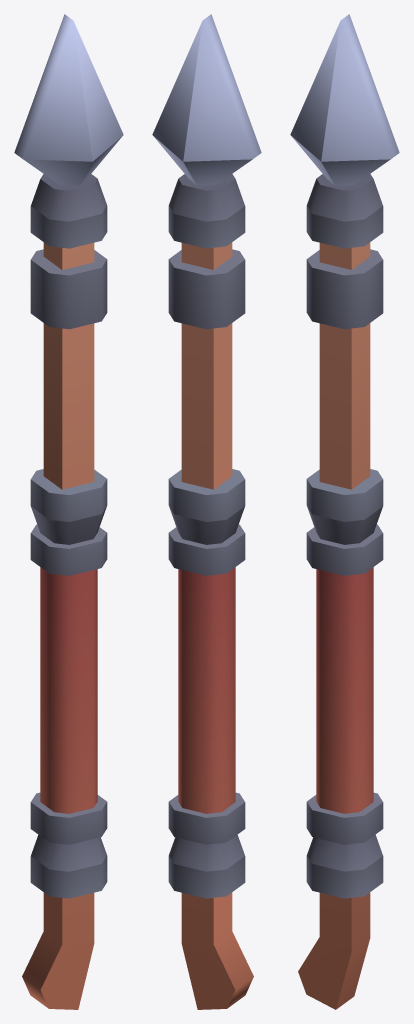
File: spear-a.fbx
3 renders of one model, left to right at view 1: azimuth 30°, elevation 25°; view 2: azimuth 150°, elevation 25°; view 3: azimuth 330°, elevation 25°, orthographic.
Visible parts, largest first — view 1: spear-a; view 2: spear-a; view 3: spear-a.
Part boxes in pixels (x1,y1,x2,y2): spear-a: (14,14,123,1009); spear-a: (152,14,261,1009); spear-a: (290,14,399,1009).
Size of the model in its own units: 58.7 by 550 by 48.16.
Materials: 1 (1 with a texture image).
